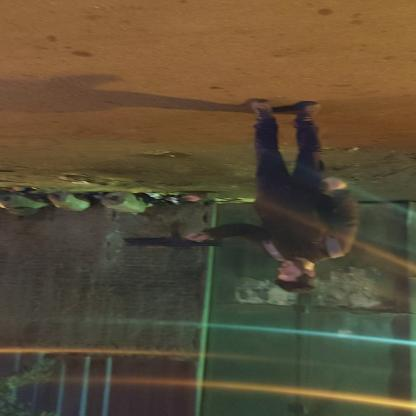long weapon: (104, 221, 233, 262)
